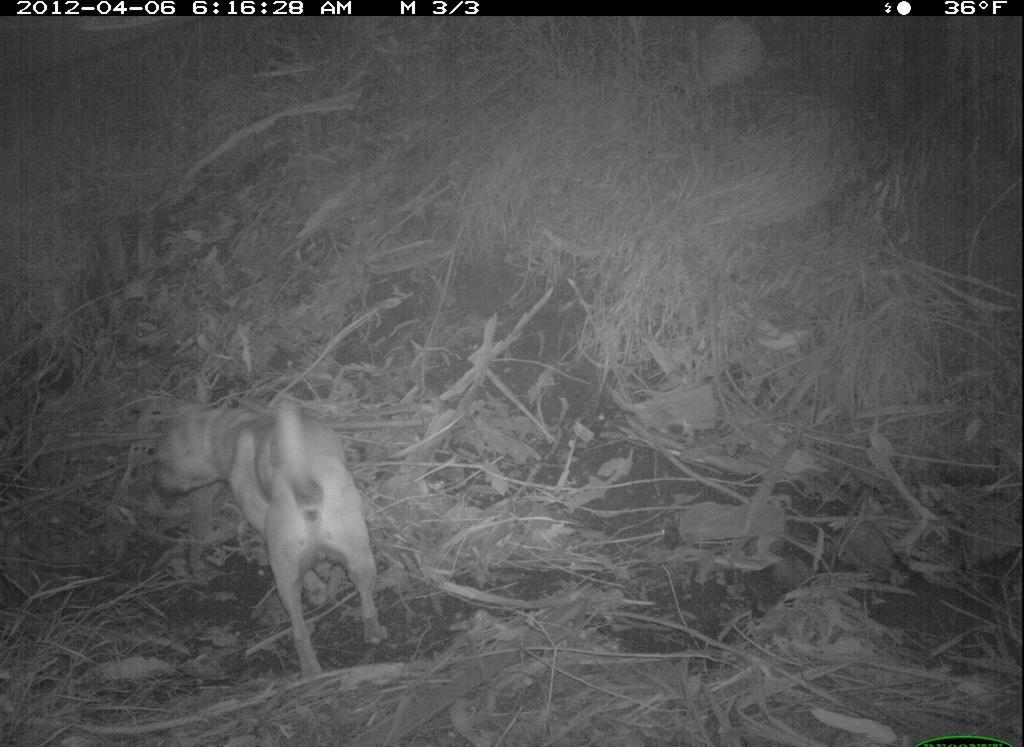dog: (146, 391, 429, 676)
